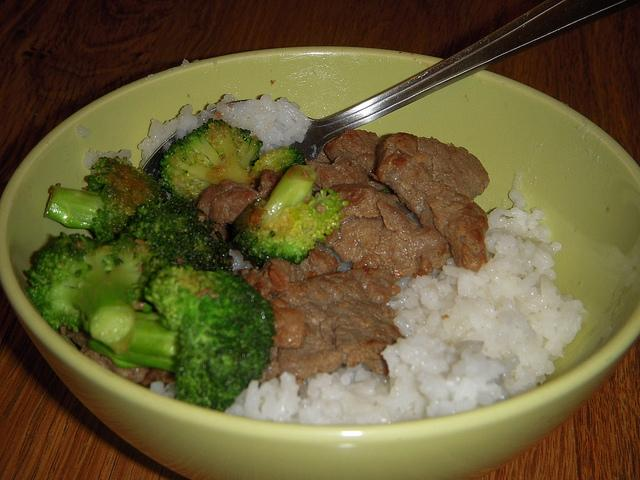broccoli: (88, 265, 276, 413), (26, 232, 168, 344), (228, 164, 350, 271), (160, 118, 308, 200), (43, 156, 168, 243), (125, 193, 234, 273)
